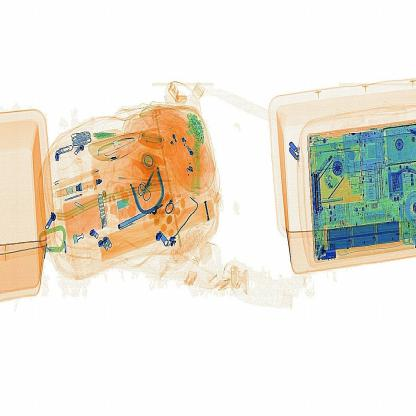scissors: (303, 164, 332, 220)
